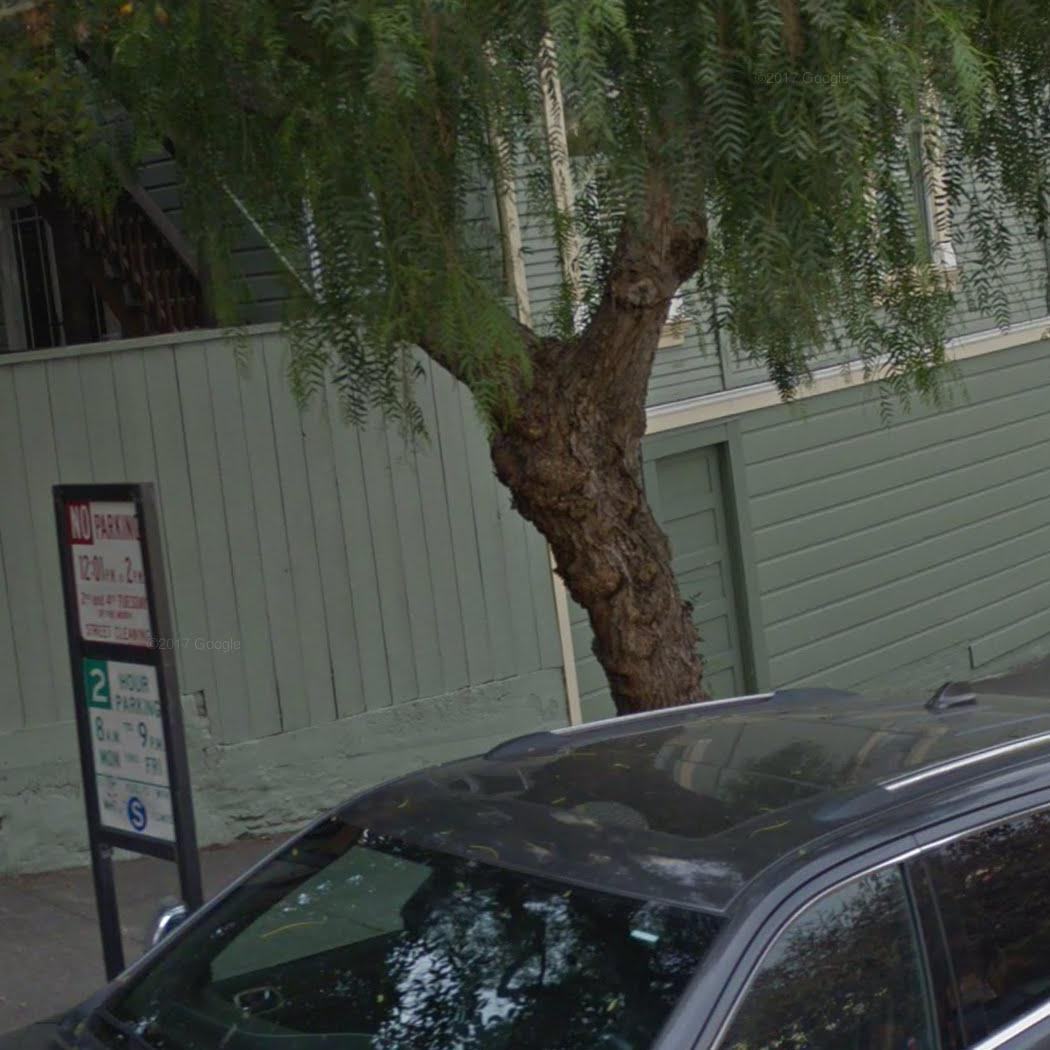2 Hour Parking: (69, 651, 183, 849)
No Parking: (60, 489, 158, 652)
